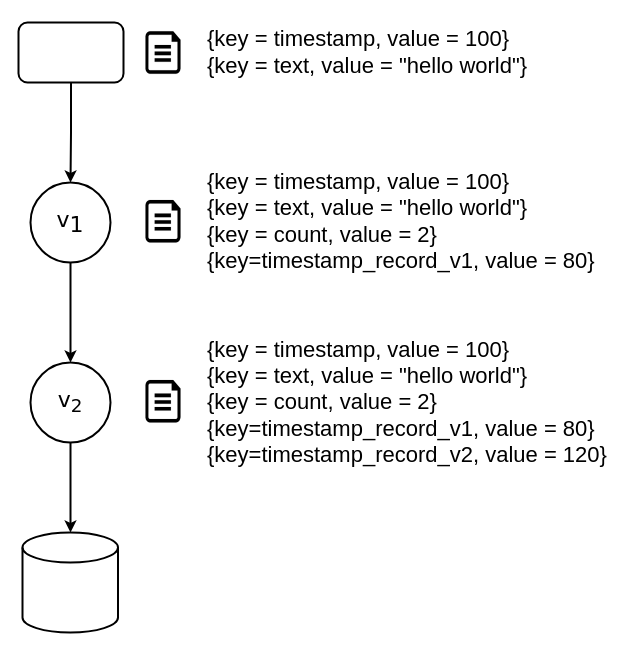
The diagram is 642 pixels wide and 650 high, and some of its shapes have lost their labels. Each missing label, with the box of its shape:
Database: (21, 531, 118, 633)
Input data: (17, 21, 124, 83)
